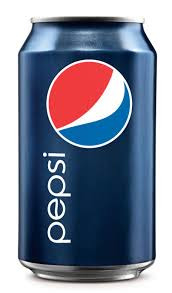pepsi: (16, 5, 162, 293)
